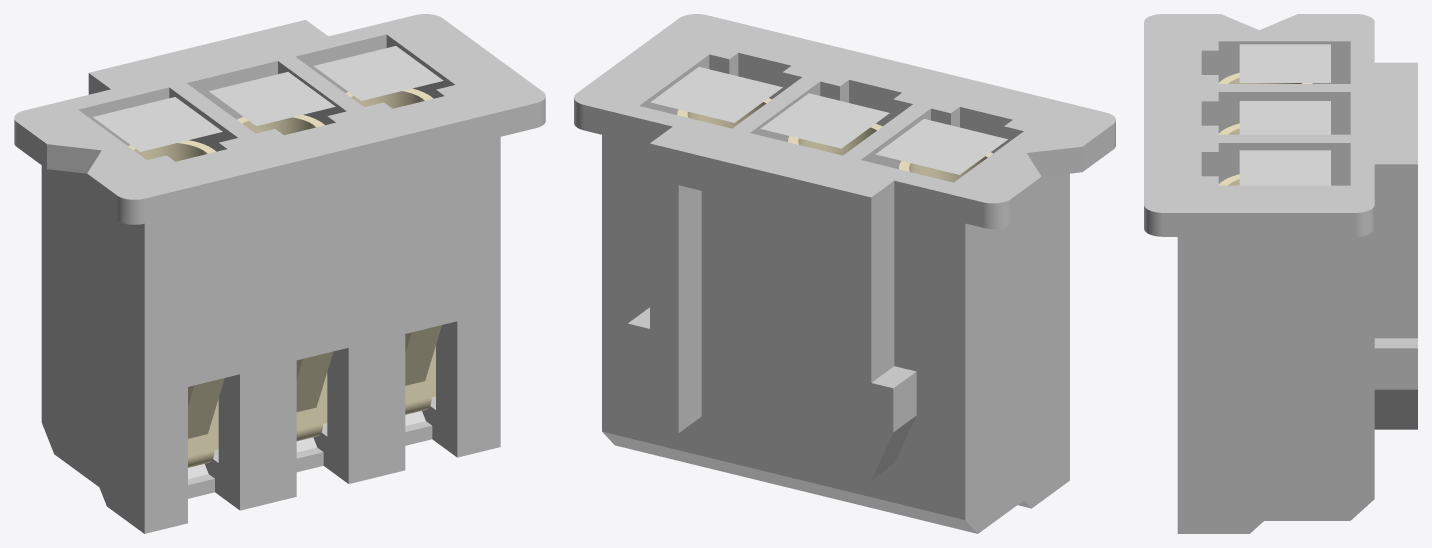
File: pin3Female.glb
3 renders of one model, left to right at view 1: azimuth 30°, elevation 25°; view 2: azimuth 150°, elevation 25°; view 3: azimuth 270°, elevation 25°, orthographic. The views are drawn at different scales.
Parts seen in each view (by area): view 1: Node2, Node1, pin1, pin3, pin2; view 2: Node2, pin1, pin3, pin2, Node1; view 3: Node2, pin1, pin3, pin2, Node1.
Boxes of the visible parts, x1,y1,x2,y2 form: Node2: (14,14,545,533); Node1: (128,88,441,467); pin1: (93,97,222,151); pin3: (314,46,443,100); pin2: (209,72,335,125); Node2: (574,14,1115,533); pin1: (875,119,1007,174); pin3: (650,67,782,122); pin2: (760,93,889,148); Node1: (677,98,992,182); Node2: (1144,14,1417,533); pin1: (1239,44,1330,82); pin3: (1239,150,1330,185); pin2: (1239,101,1330,134); Node1: (1218,72,1312,185).
Bounding box in the file's own units: 0.5036 × 0.3983 × 0.2929.
